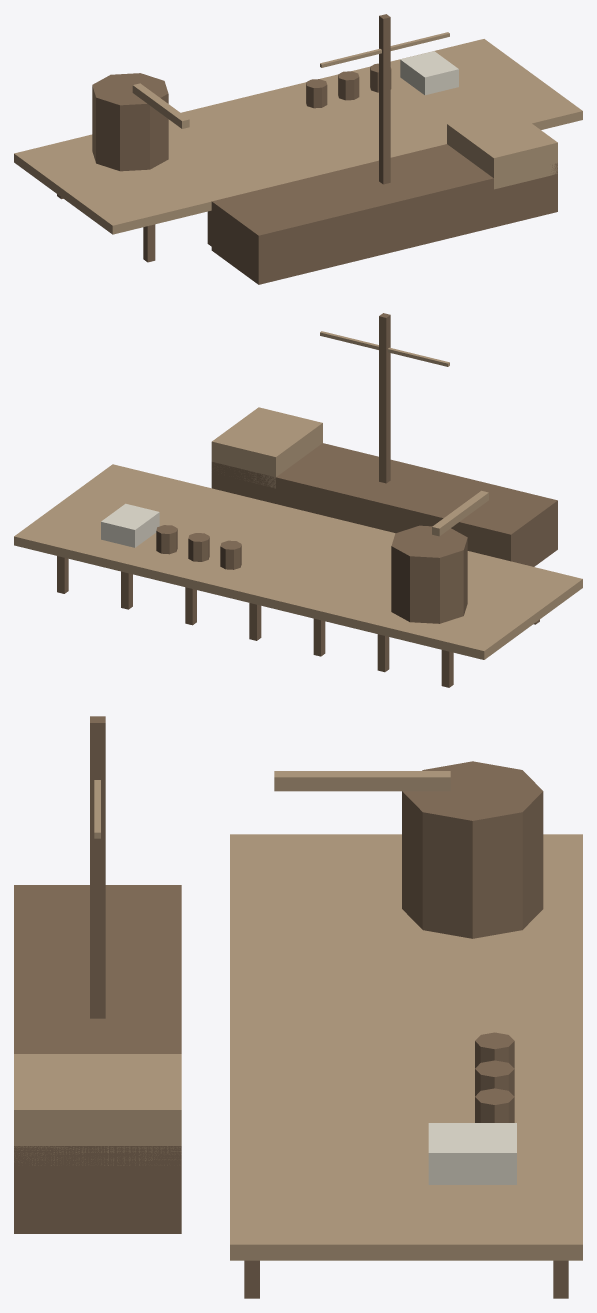
File: river_harbor.glb
The picture shows the model from 3 angles, top to bottom: view 1: azimuth 30°, elevation 25°; view 2: azimuth 150°, elevation 25°; view 3: azimuth 270°, elevation 25°; orthographic projection. The views are drawn at different scales.
Visible parts, largest first — view 1: RiverHarbor; view 2: RiverHarbor; view 3: RiverHarbor.
Part boxes in pixels (x1,y1,x2,y2): RiverHarbor: (14, 14, 582, 284); RiverHarbor: (14, 313, 582, 687); RiverHarbor: (14, 716, 582, 1298).
Bounding box in the file's own units: 22 × 10.2 × 12.9.
